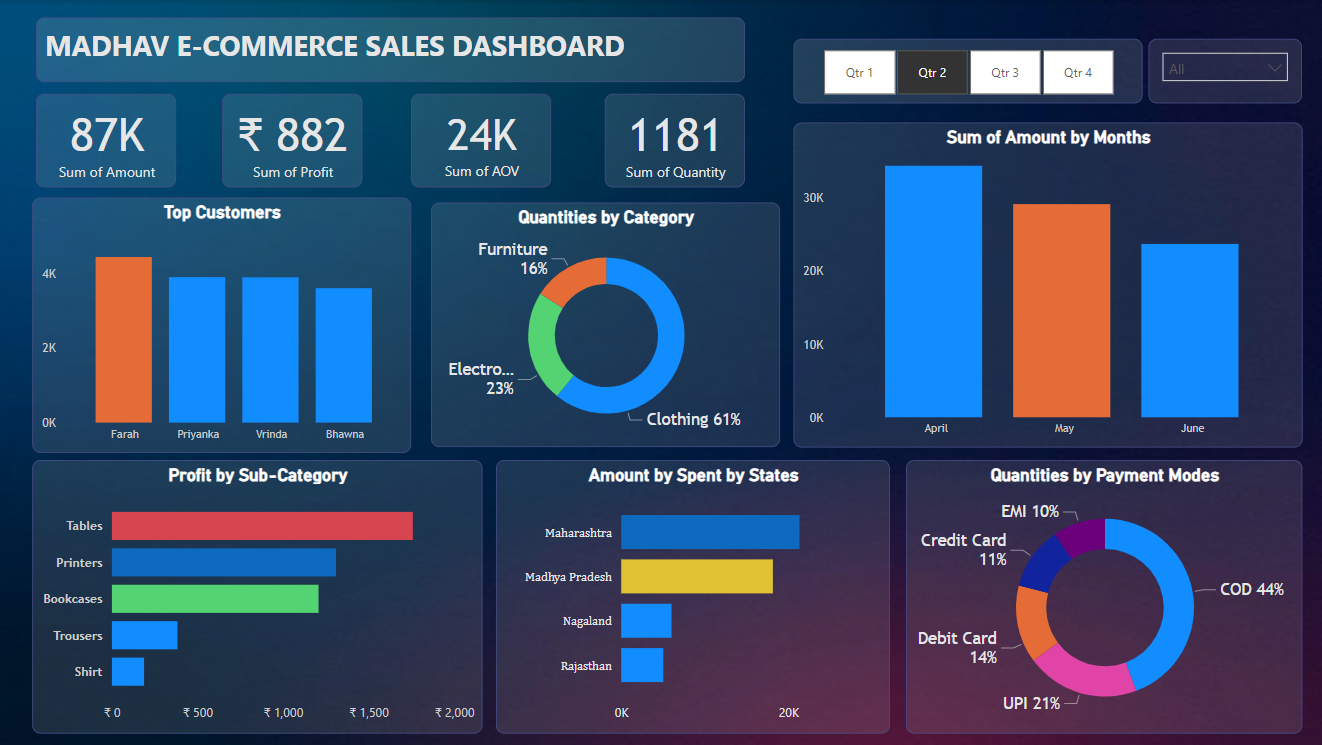

This screenshot's page, from the dashboard's own definition file:
{"tool":"powerbi","page":{"name":"Page 1","canvas":[1280,720],"ordinal":0},"visuals":[{"type":"textbox","box":[13.5,16.9,628.9,62.4],"z":0},{"type":"clusteredBarChart","title":"Profit by Sub-Category","fields":{"Category":["Details.Sub-Category"],"Y":["Details.Profit"]},"box":[35,443.8,434.2,264.1],"z":2000},{"type":"donutChart","title":"Quantities by Category","fields":{"Category":["Details.Category"],"Y":["Details.Quantity"]},"box":[419.7,195.4,336.5,236.4],"z":3000},{"type":"donutChart","title":"Quantities by Payment Modes","fields":{"Y":["Details.Quantity"],"Category":["Details.PaymentMode"]},"box":[878,443.8,382.3,264.1],"z":4000},{"type":"card","fields":{"Values":["Details.Quantity"]},"box":[453.5,90.5,135.1,90.5],"z":6000},{"type":"card","fields":{"Values":["Details.Profit"]},"box":[159.2,90.5,135.1,91],"z":7000},{"type":"card","fields":{"Values":["Details.Aov"]},"box":[306.3,90.5,135.1,91],"z":8000},{"type":"clusteredBarChart","title":"Amount by Spent by States","fields":{"Category":["Orders.State"],"Y":["Details.Amount"]},"box":[482.4,443.8,379.9,264.1],"z":9000},{"type":"columnChart","title":"Top Customers","fields":{"Category":["Orders.CustomerName"],"Y":["Details.Amount"]},"box":[35,190.6,365.4,246],"z":10000},{"type":"slicer","fields":{"Values":["Orders.State"]},"box":[1122.8,31.4,137.5,48.2],"z":12000},{"type":"card","fields":{"Values":["Details.Amount"]},"box":[13.3,90.5,135.1,91],"z":12001},{"type":"columnChart","title":"Sum of Amount by Months","fields":{"Category":["Orders.Order Date.Variation.Date Hierarchy.Month"],"Y":["Details.Amount"]},"box":[769.4,118.2,490.9,313.6],"z":12002},{"type":"slicer","fields":{"Values":["Orders.Order Date.Variation.Date Hierarchy.Quarter"]},"box":[800.8,31.4,291.9,48.2],"z":12003}]}

Visuals, with their boxes in screenshot pixels (x1, y1, x2, y2), scaled from the page's 1280x720 canvas onto the 1322x745 screenshot:
textbox: 14, 17, 663, 82
"Profit by Sub-Category" clusteredBarChart: 36, 459, 485, 732
"Quantities by Category" donutChart: 433, 202, 781, 447
"Quantities by Payment Modes" donutChart: 907, 459, 1302, 732
card - Details.Quantity: 468, 94, 608, 187
card - Details.Profit: 164, 94, 304, 188
card - Details.Aov: 316, 94, 456, 188
"Amount by Spent by States" clusteredBarChart: 498, 459, 891, 732
"Top Customers" columnChart: 36, 197, 414, 452
slicer - Orders.State: 1160, 32, 1302, 82
card - Details.Amount: 14, 94, 153, 188
"Sum of Amount by Months" columnChart: 795, 122, 1302, 447
slicer - Orders.Order Date.Variation.Date Hierarchy.Quarter: 827, 32, 1129, 82
